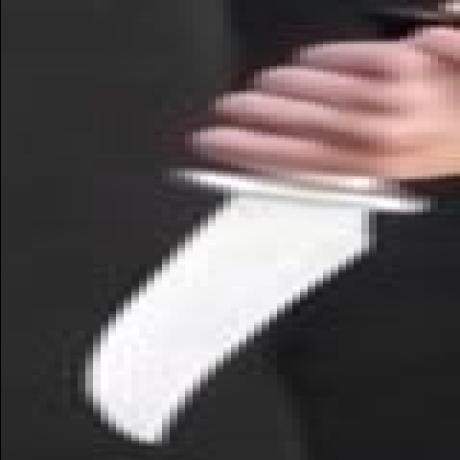weapon: (89, 188, 414, 444)
